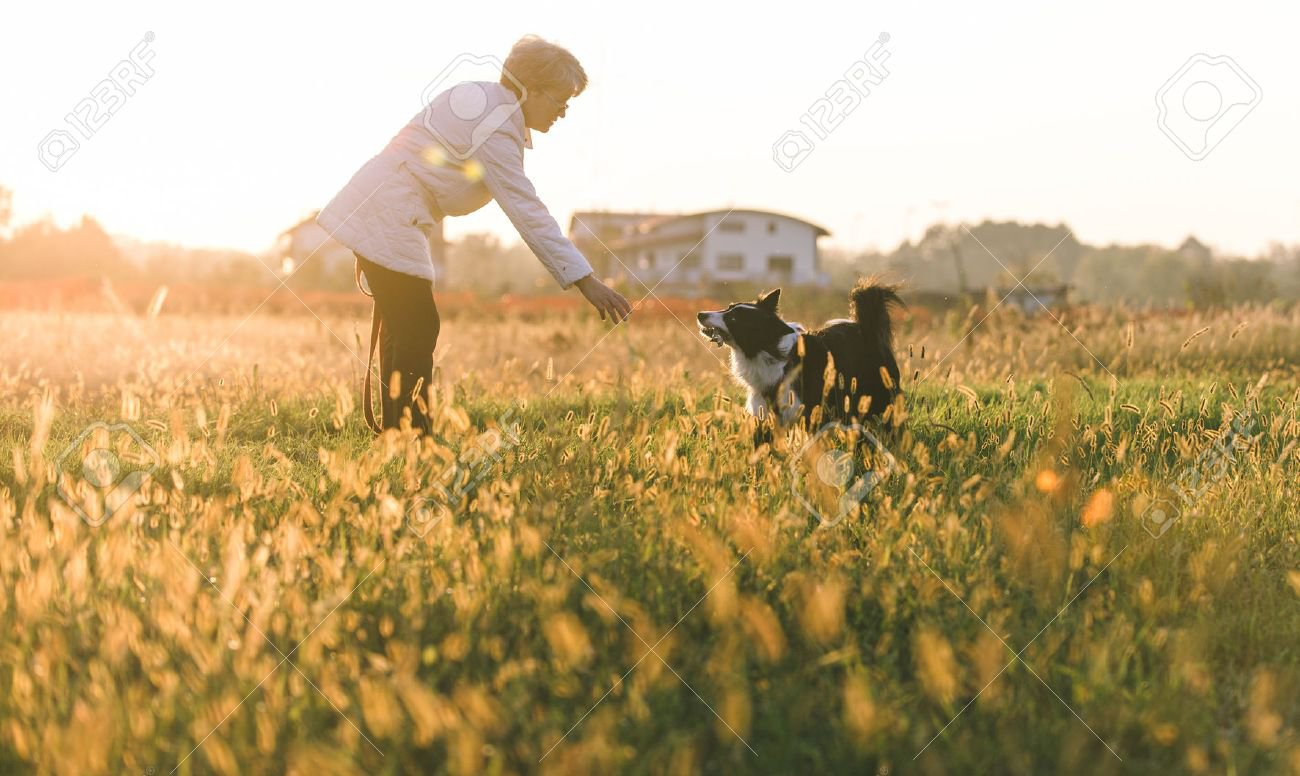dog: (664, 245, 939, 479)
